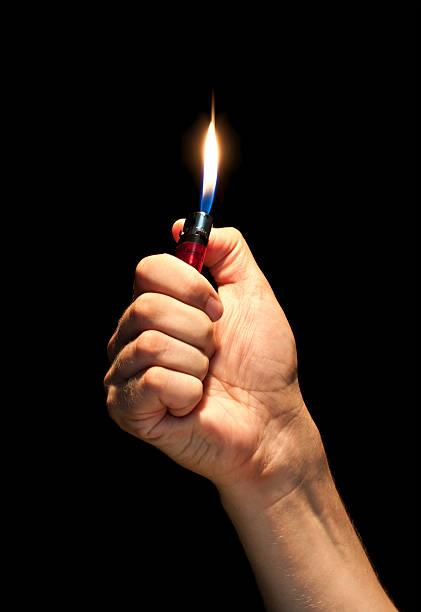Fire: (194, 93, 225, 212)
